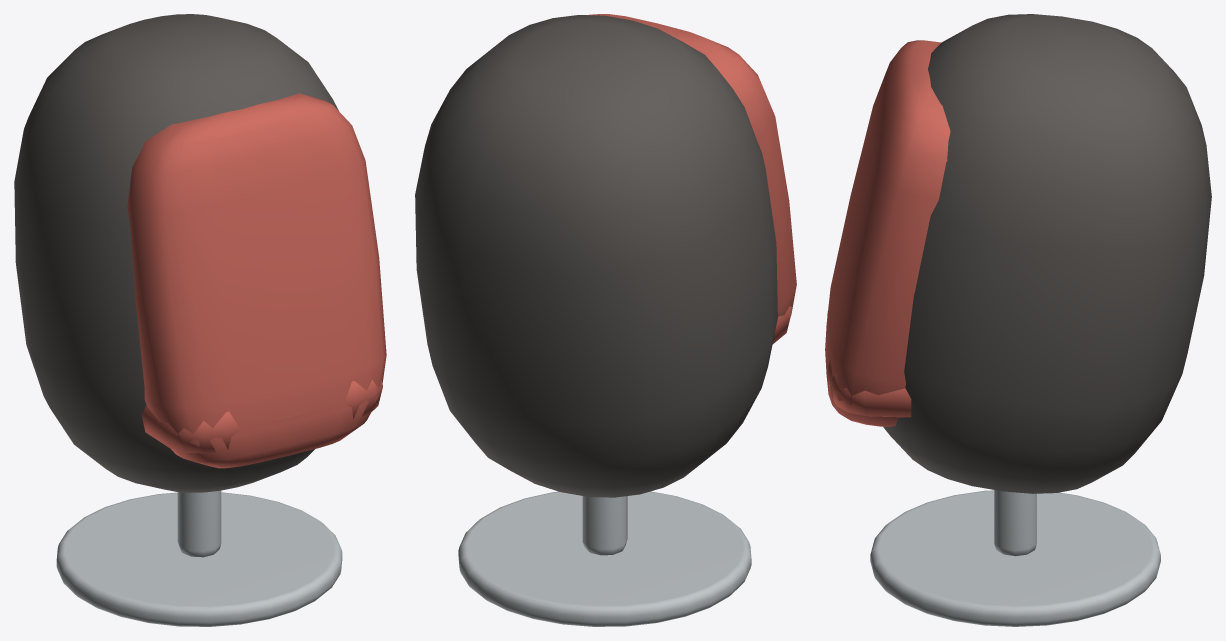
Rendered from egg_lounge_chair.glb.
3 views of the same model, side by side, from view 1: azimuth 30°, elevation 25°; view 2: azimuth 150°, elevation 25°; view 3: azimuth 270°, elevation 25° (orthographic). The views are drawn at different scales.
Visible parts, largest first — view 1: egg_lounge_chair_mesh; view 2: egg_lounge_chair_mesh; view 3: egg_lounge_chair_mesh.
Boxes of the visible parts, x1,y1,x2,y2 form: egg_lounge_chair_mesh: [14, 14, 386, 626]; egg_lounge_chair_mesh: [415, 14, 796, 626]; egg_lounge_chair_mesh: [825, 14, 1211, 626].
Size of the model in its own units: 0.62 by 1.05 by 0.6914.
